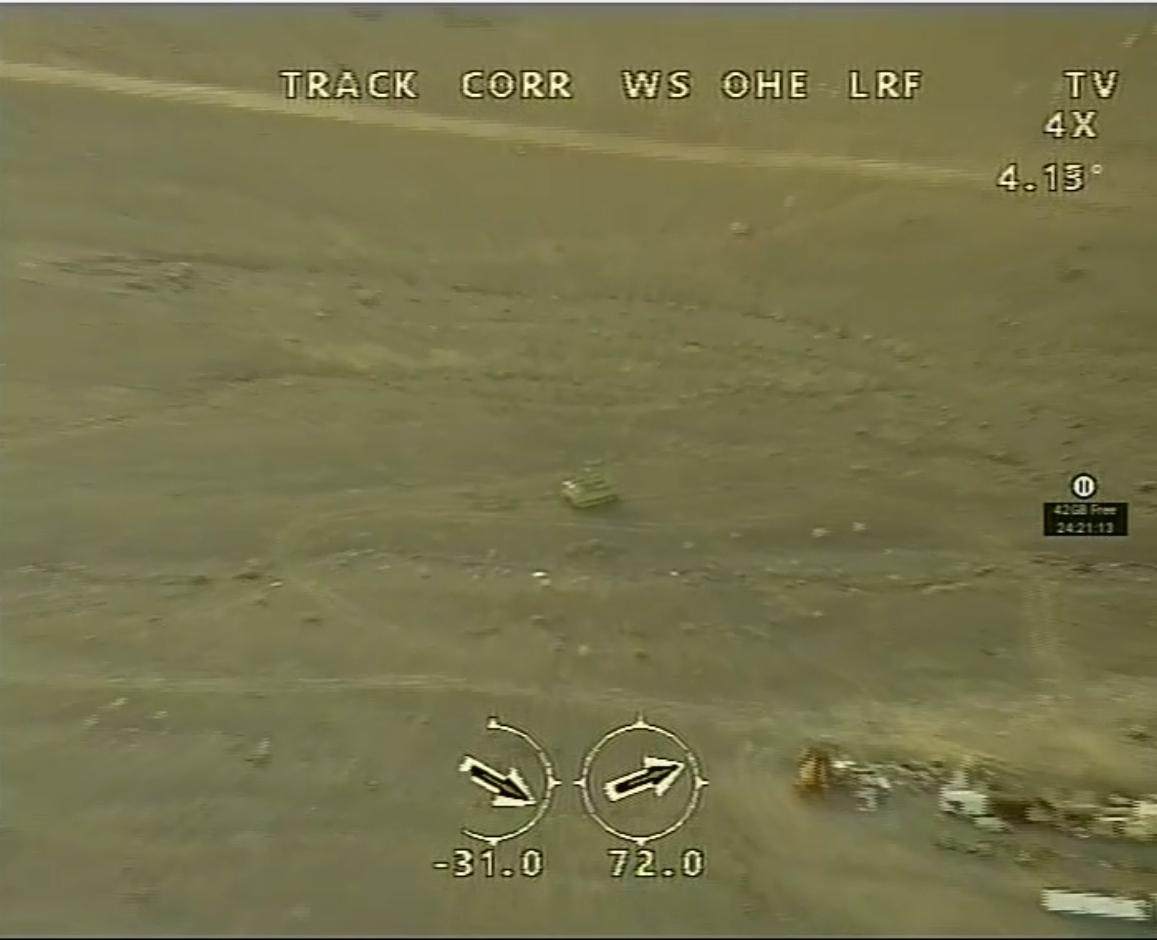armored_car: (554, 470, 620, 512)
